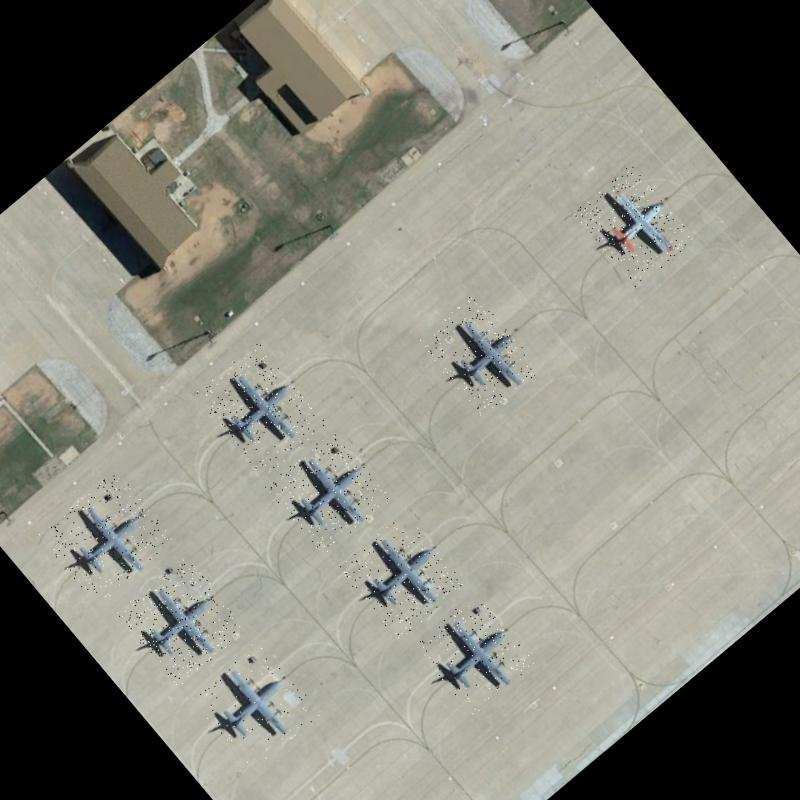A2: (38, 469, 176, 606), (192, 340, 328, 478), (186, 635, 322, 771), (115, 554, 248, 687), (337, 512, 465, 640), (416, 290, 542, 418), (264, 429, 390, 555), (572, 162, 696, 288), (413, 590, 536, 716)
